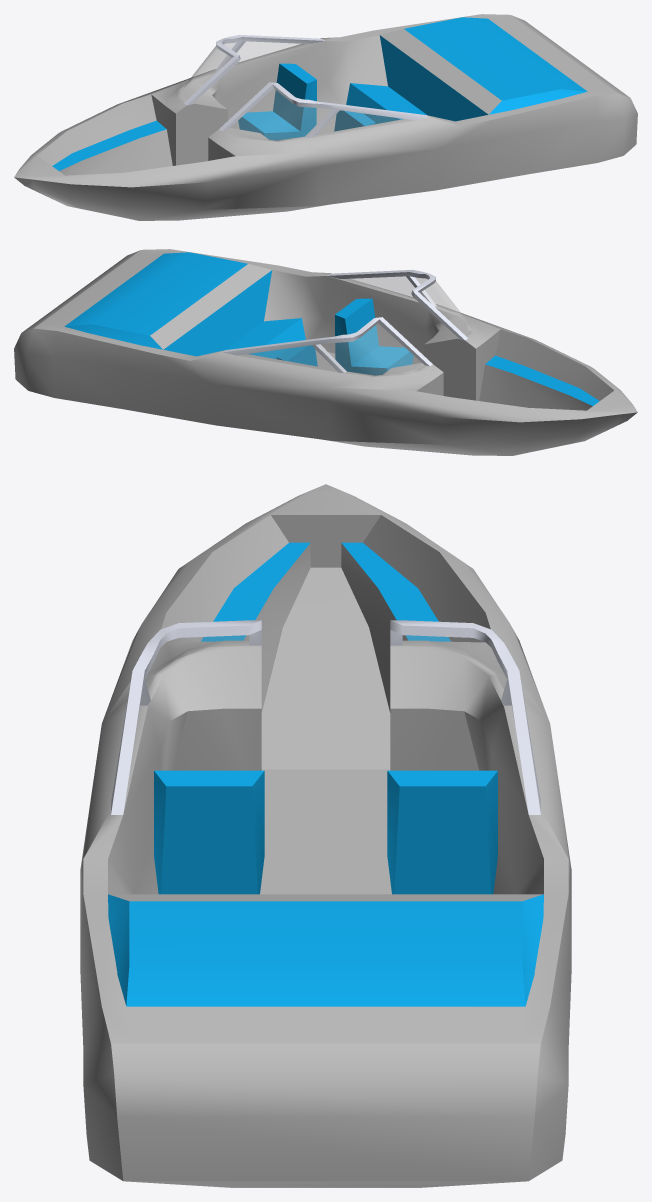
3 views of the same model, one above another, from view 1: azimuth 30°, elevation 25°; view 2: azimuth 150°, elevation 25°; view 3: azimuth 270°, elevation 25° (orthographic). The views are drawn at different scales.
Parts seen in each view (by area): view 1: 0_Hard Rough Plastic Grey_0, WHITE PLASTIC, GLASS, CHROME; view 2: 0_Hard Rough Plastic Grey_0, WHITE PLASTIC, GLASS, CHROME; view 3: 0_Hard Rough Plastic Grey_0, WHITE PLASTIC, CHROME, GLASS.
Boxes of the visible parts, <box> form: 0_Hard Rough Plastic Grey_0: <box>14,14,637,220</box>; WHITE PLASTIC: <box>52,17,587,170</box>; GLASS: <box>180,41,413,139</box>; CHROME: <box>184,34,428,138</box>; 0_Hard Rough Plastic Grey_0: <box>14,249,637,455</box>; WHITE PLASTIC: <box>64,252,599,405</box>; GLASS: <box>238,276,471,374</box>; CHROME: <box>223,269,467,373</box>; 0_Hard Rough Plastic Grey_0: <box>80,484,571,1187</box>; WHITE PLASTIC: <box>108,542,543,1006</box>; CHROME: <box>111,620,540,814</box>; GLASS: <box>145,635,506,688</box>.
Bounding box in the file's own units: 228 × 56.73 × 84.84.
